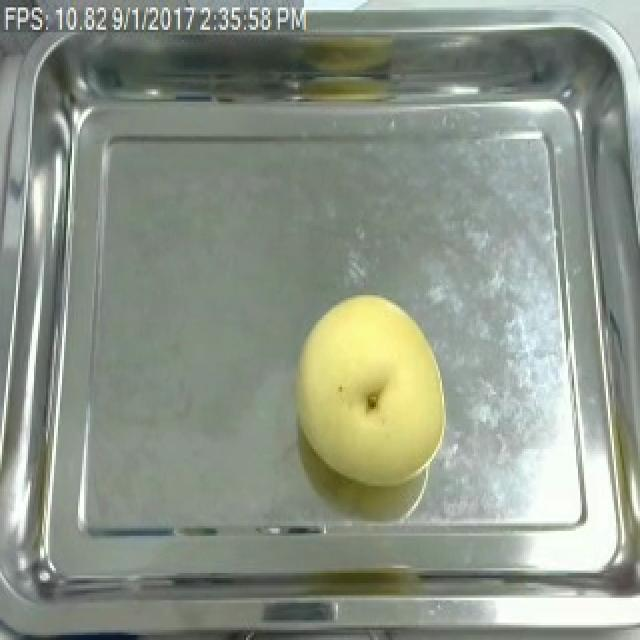Fruit: (284, 285, 456, 494)
